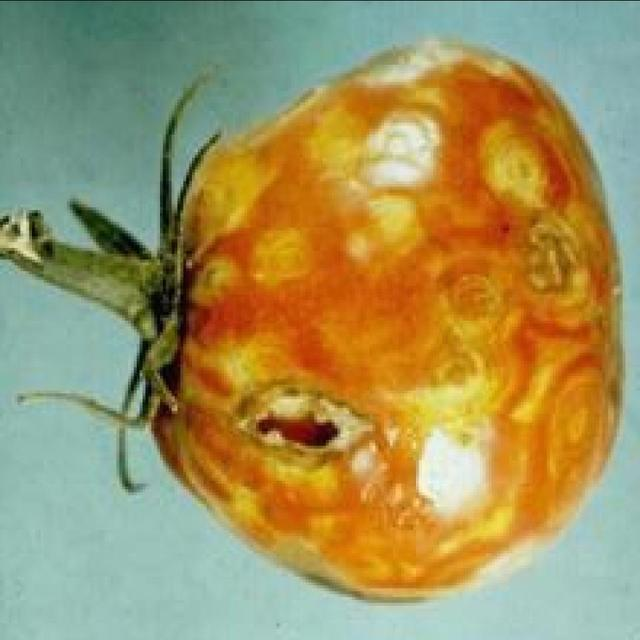Spotted wilt Virus Fruit: (97, 27, 417, 400)
